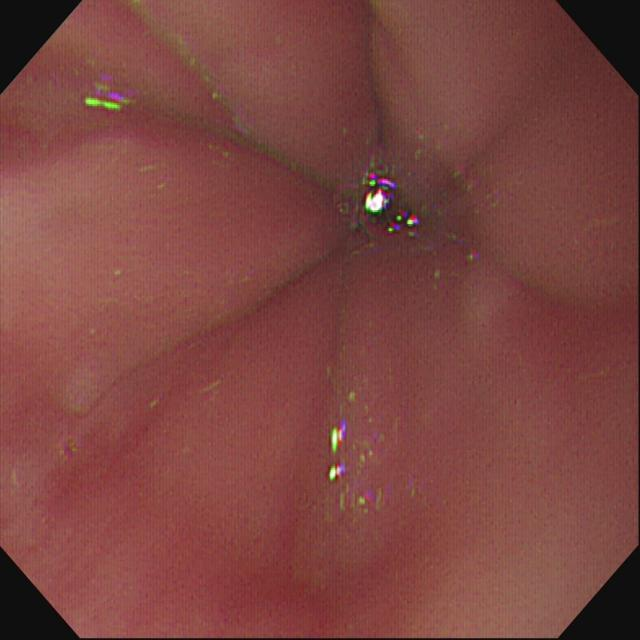U: (86, 77, 136, 111), (365, 172, 397, 214), (331, 422, 349, 454), (398, 210, 422, 228), (329, 464, 348, 482)
